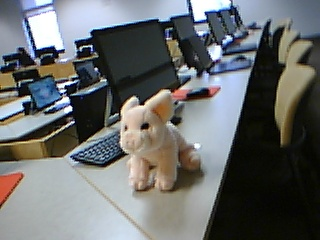piggy: (118, 88, 203, 193)
